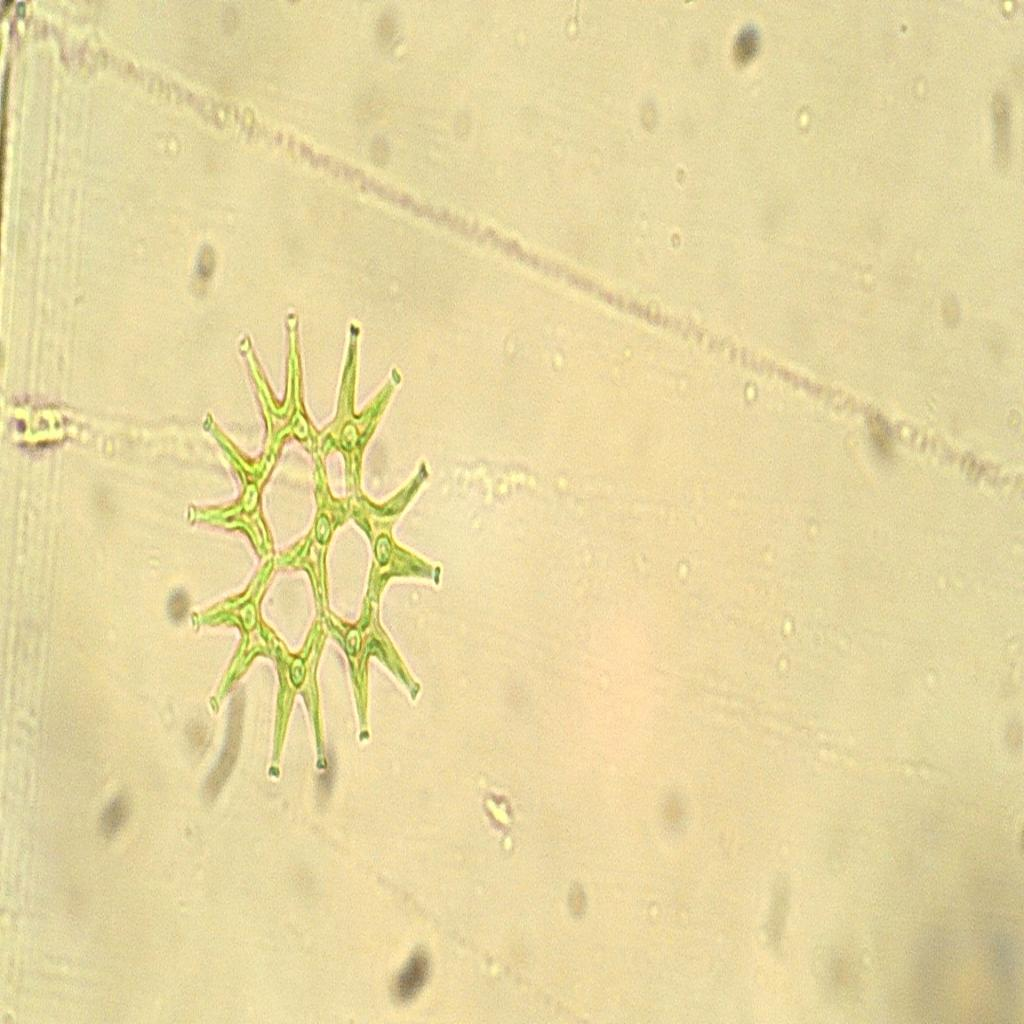Pediastrum_1T: (168, 273, 459, 800)
